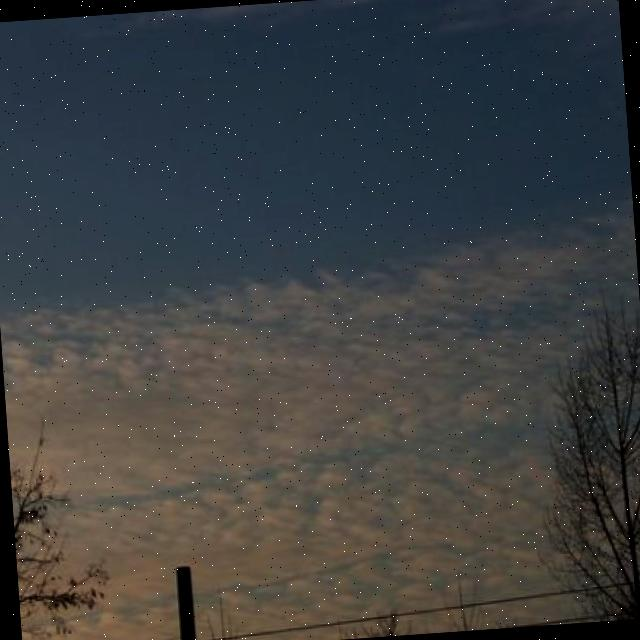Ac: (12, 216, 527, 456)
